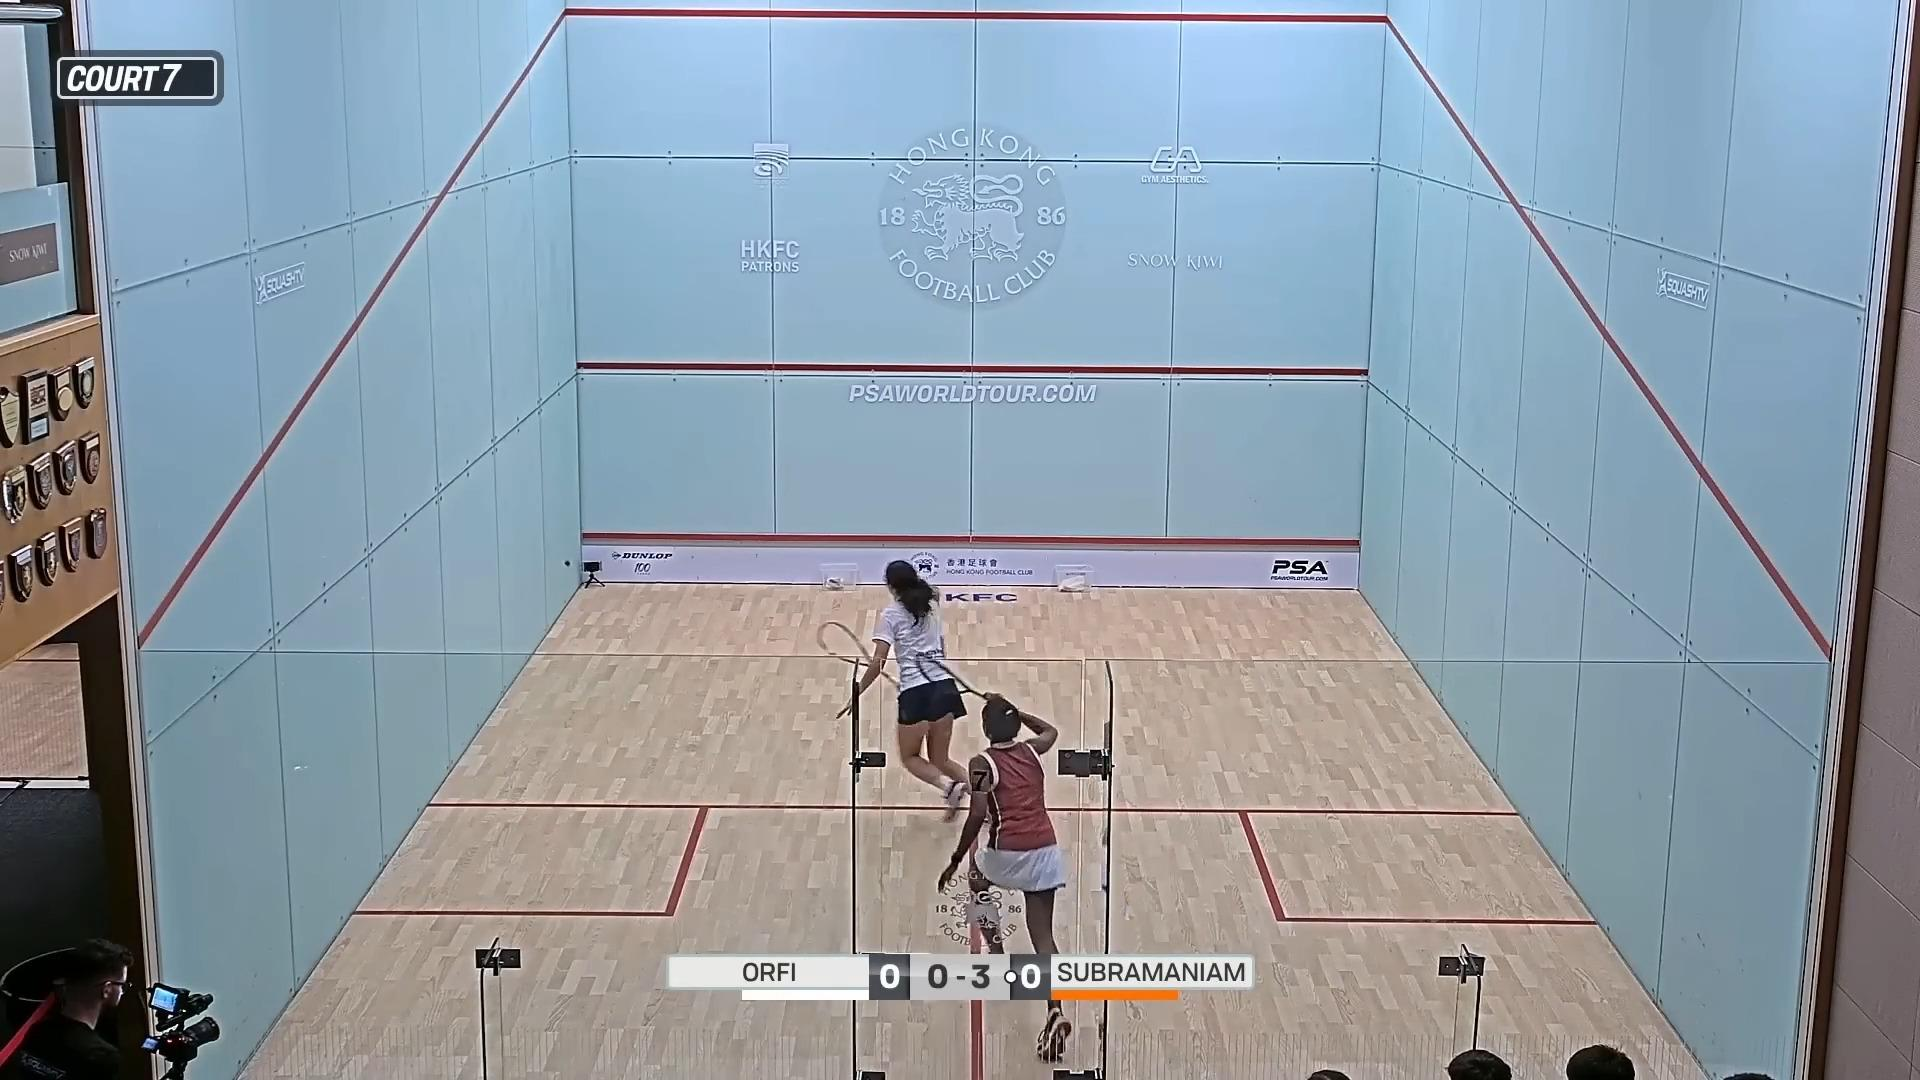Squash-Ball: (560, 550, 576, 582)
